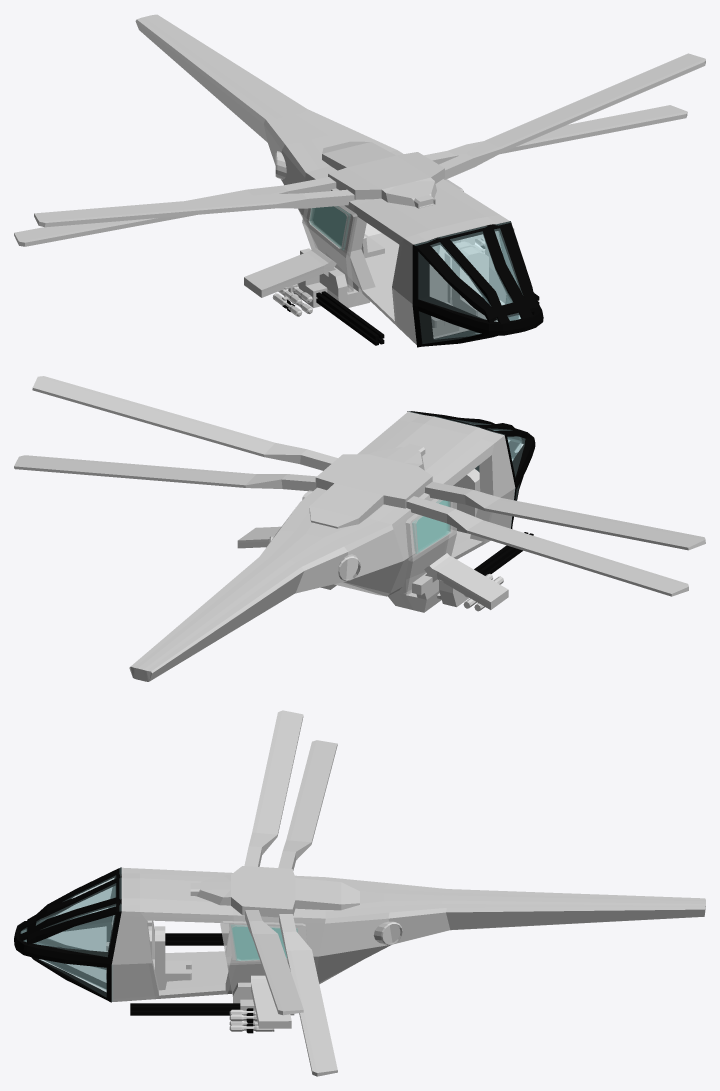
The model's file is dragonflymodern.fbx.
3 views of the same model, one above another, from view 1: azimuth 30°, elevation 25°; view 2: azimuth 150°, elevation 25°; view 3: azimuth 270°, elevation 25° (orthographic). The views are drawn at different scales.
Visible parts, largest first — view 1: Cube.041, cockpitframe, Cube.058, cockpit, forwardblade, forwardblade.001, Cube.016, backblade, backblade.001, door_right, barrel.001, Cube.053 (+3 smaller); view 2: Cube.041, Cube.058, forwardblade, backblade.001, forwardblade.001, backblade, Cube.016, cockpitframe, door_right, Cube.060, barrel.001, cockpit (+2 smaller); view 3: Cube.041, cockpitframe, Cube.058, forwardblade.001, backblade, cockpit, backblade.001, forwardblade, Cube.016, door_left, barrel, Cube.072 (+2 smaller).
Part boxes in pixels (x1,y1,x2,y2): Cube.041: (135, 14, 509, 344); cockpitframe: (412, 221, 543, 347); Cube.058: (322, 141, 444, 208); cockpit: (414, 221, 521, 343); forwardblade: (439, 53, 705, 179); forwardblade.001: (34, 189, 356, 227); Cube.016: (244, 228, 514, 307); backblade: (424, 105, 687, 164); backblade.001: (14, 177, 336, 246); door_right: (302, 205, 357, 292); barrel.001: (316, 291, 384, 345); Cube.053: (452, 247, 504, 321); Cube.041: (129, 411, 515, 681); Cube.058: (309, 443, 432, 528); forwardblade: (32, 376, 337, 470); backblade.001: (406, 496, 688, 596); forwardblade.001: (424, 482, 705, 550); backblade: (14, 455, 316, 491); Cube.016: (237, 526, 508, 612); cockpitframe: (407, 411, 535, 528); door_right: (402, 485, 456, 594); Cube.060: (412, 500, 450, 553); barrel.001: (474, 532, 533, 575); cockpit: (409, 411, 525, 528); Cube.041: (111, 867, 705, 1001); cockpitframe: (14, 867, 121, 1002); Cube.058: (190, 866, 359, 917); forwardblade.001: (244, 710, 303, 866); backblade: (279, 914, 337, 1076); cockpit: (20, 868, 121, 1001); backblade.001: (278, 740, 337, 870); forwardblade: (245, 910, 303, 1015); Cube.016: (233, 975, 294, 1028); door_left: (220, 921, 307, 996); barrel: (130, 1003, 240, 1015); Cube.072: (155, 926, 191, 990).
Size of the model in its own units: 615 by 119 by 595.
